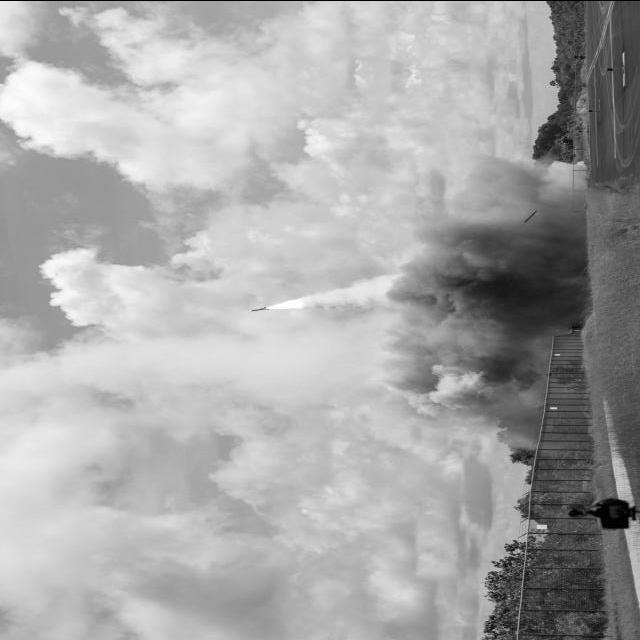Missile: (247, 305, 270, 311)
